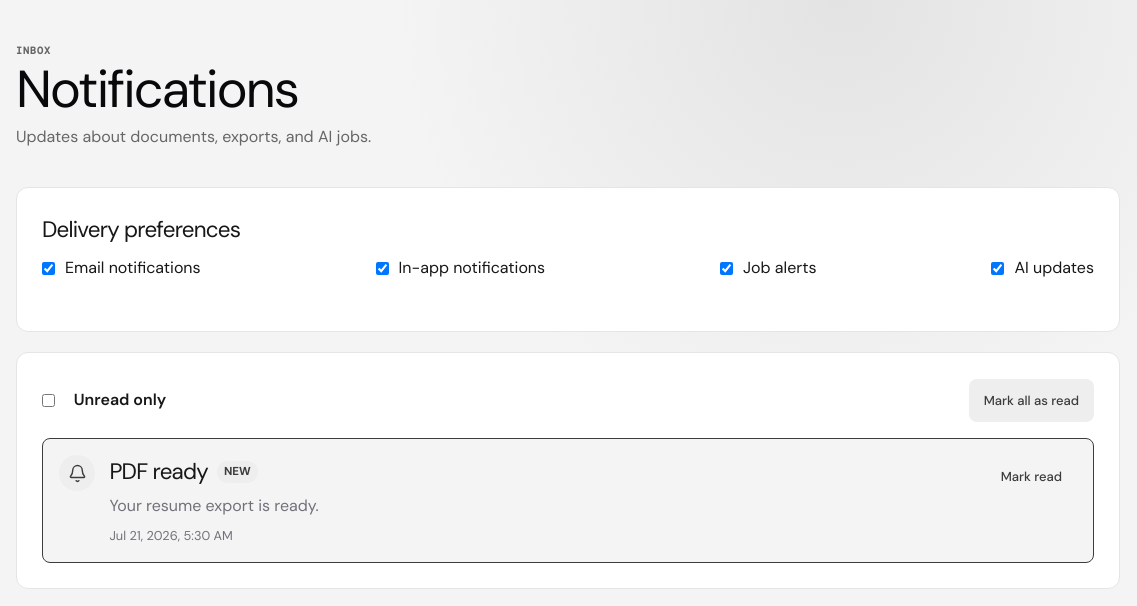
NotificationsPanel › shows progress while marking all notifications as read
Expected: the heading "PDF ready" is shown, x1=109 y1=455 x2=208 y2=489
Click the button "Mark all as read". click: (1031,400)
box: x1=969 y1=378 x2=1094 y2=422
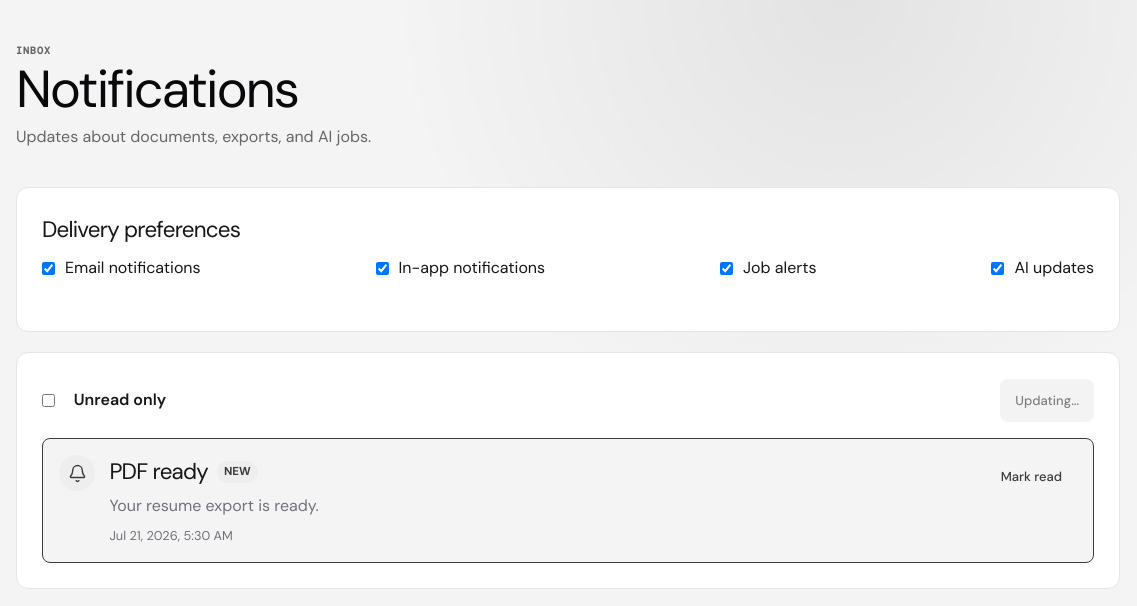
Expected: the button "Updating…" is shown, x1=1000 y1=378 x2=1094 y2=422
